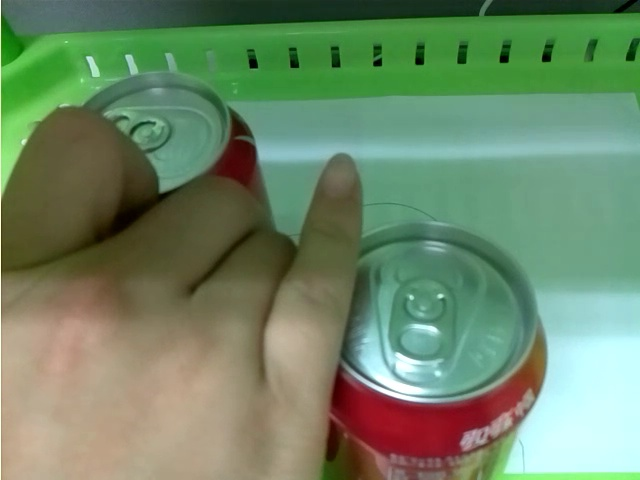cocacola: (344, 218, 548, 480), (80, 68, 266, 210)
hand: (2, 102, 361, 480)
